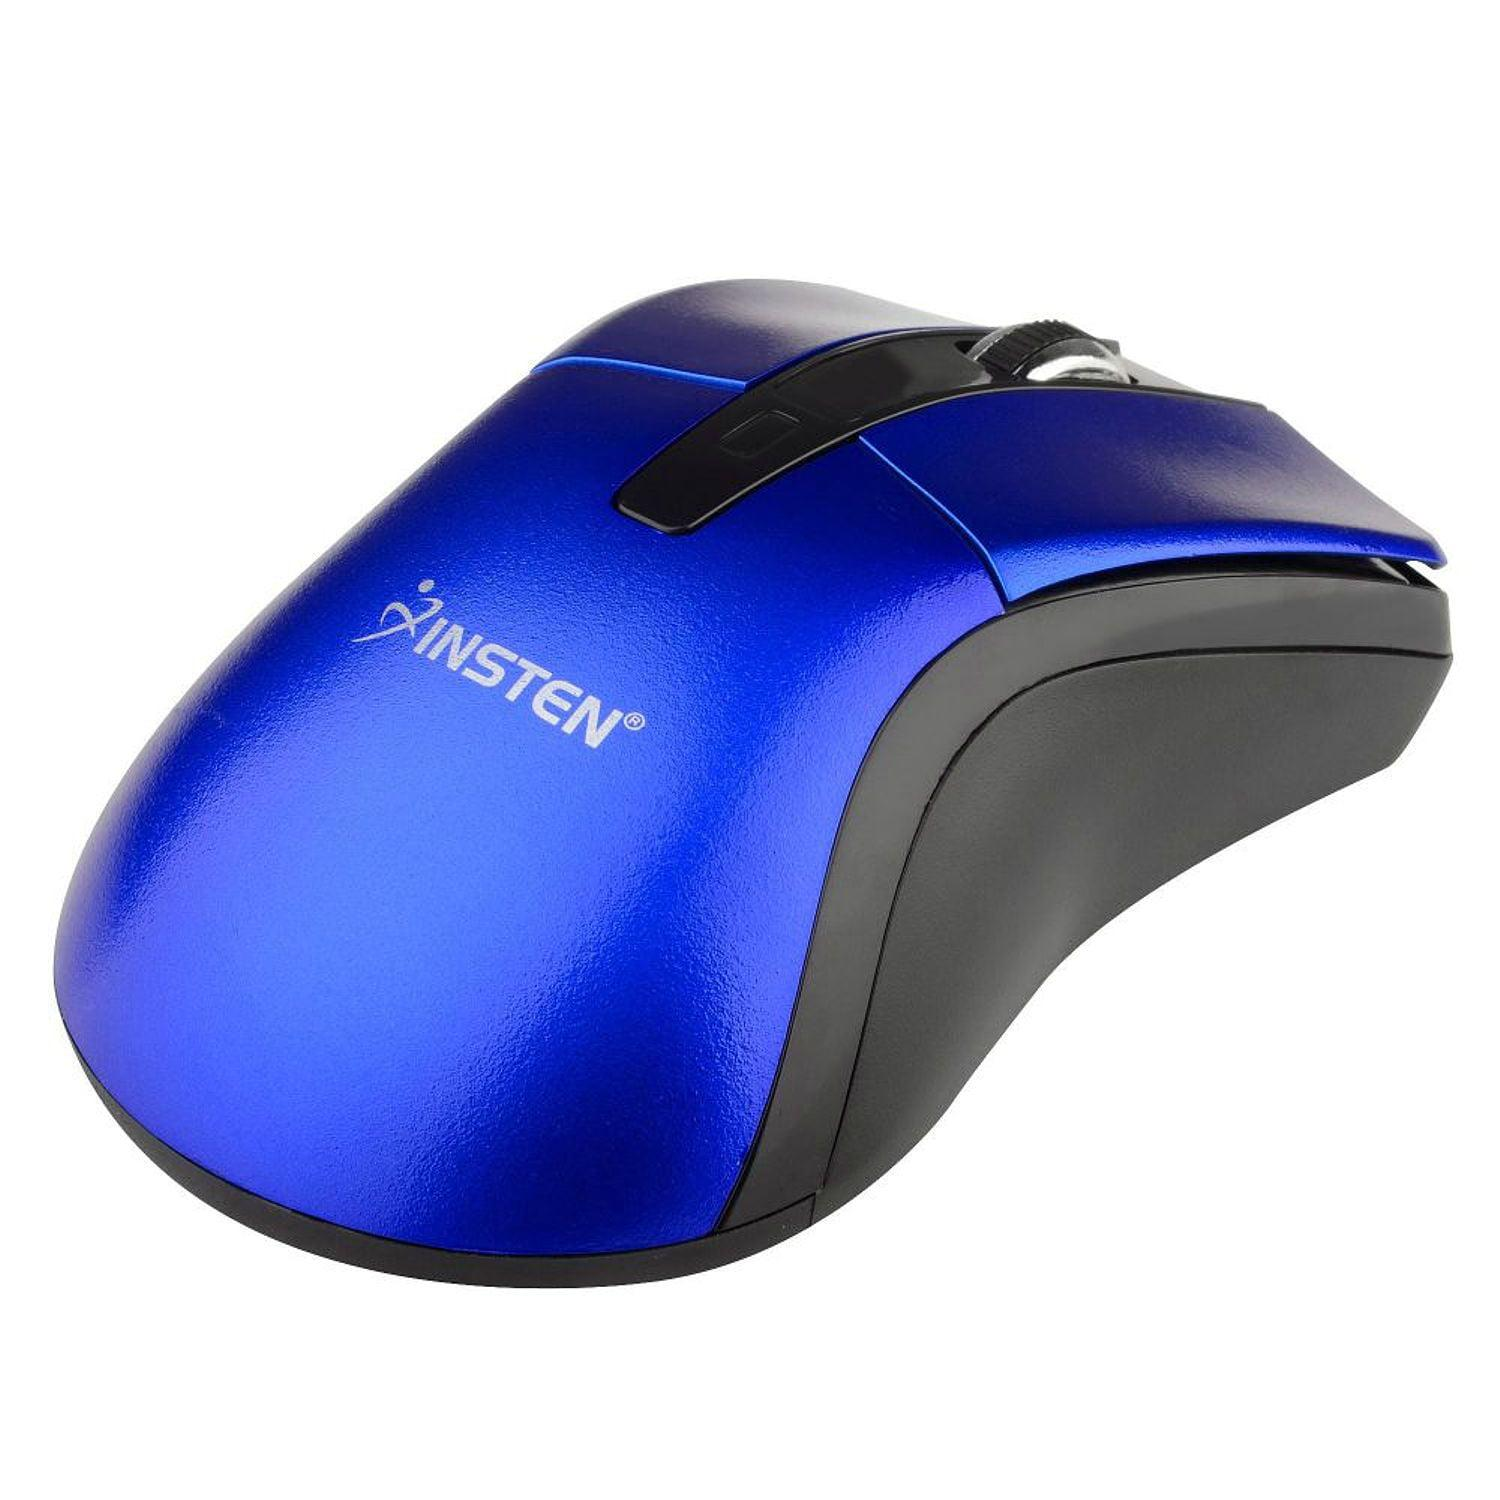computer mouse: (51, 277, 1456, 1295)
